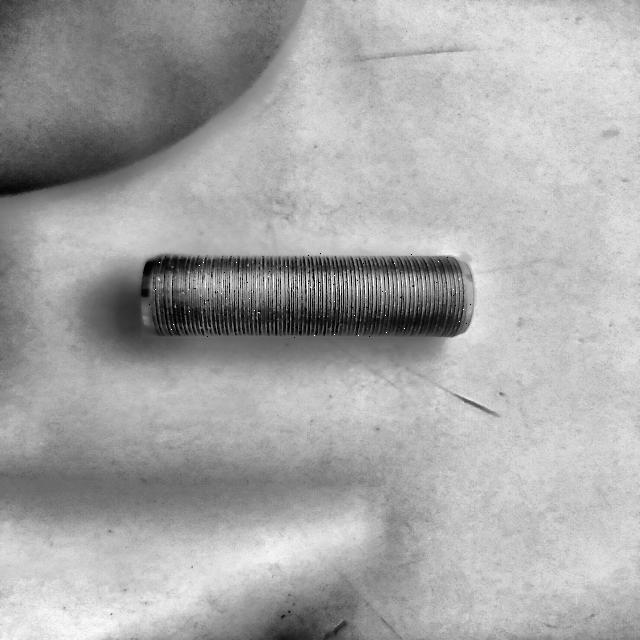Broken: (141, 253, 475, 338)
